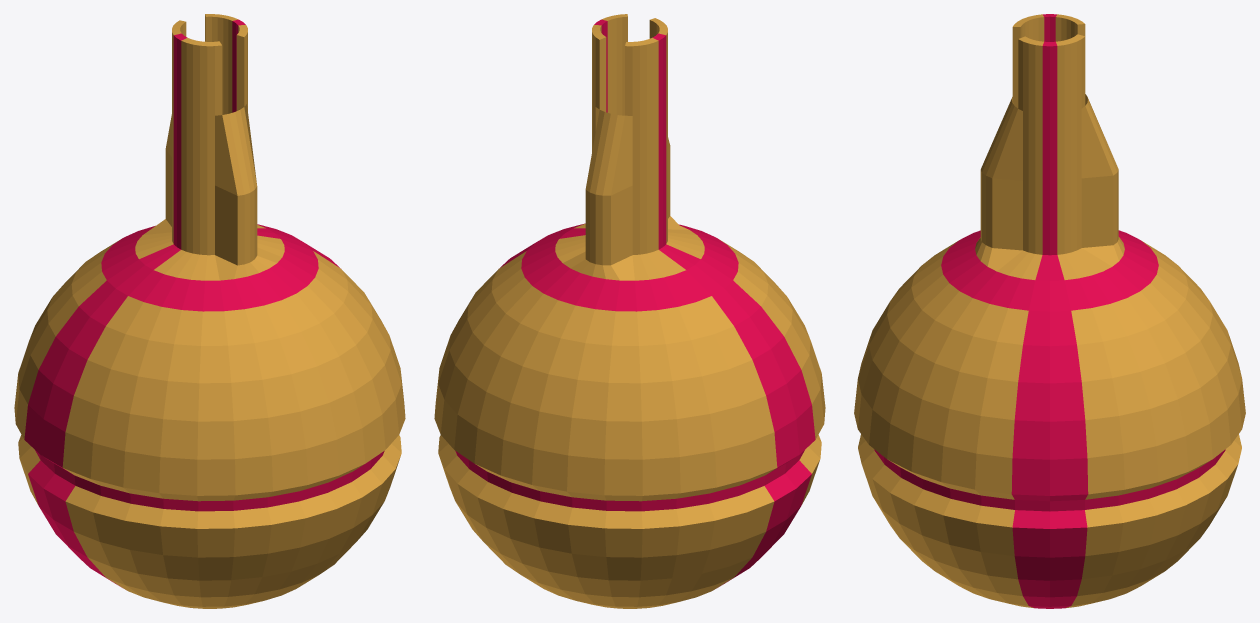
The model's file is Weapon01001RS.fbx.
The picture shows the model from 3 angles, left to right: view 1: azimuth 30°, elevation 25°; view 2: azimuth 150°, elevation 25°; view 3: azimuth 270°, elevation 25°; orthographic projection.
Visible parts, largest first — view 1: Weapon; view 2: Weapon; view 3: Weapon.
Part boxes in pixels (x1=…): Weapon: x1=14, y1=14, x2=405, y2=608; Weapon: x1=434, y1=14, x2=825, y2=608; Weapon: x1=854, y1=14, x2=1245, y2=608.
Bounding box in the file's own units: 35 × 55.33 × 35.
